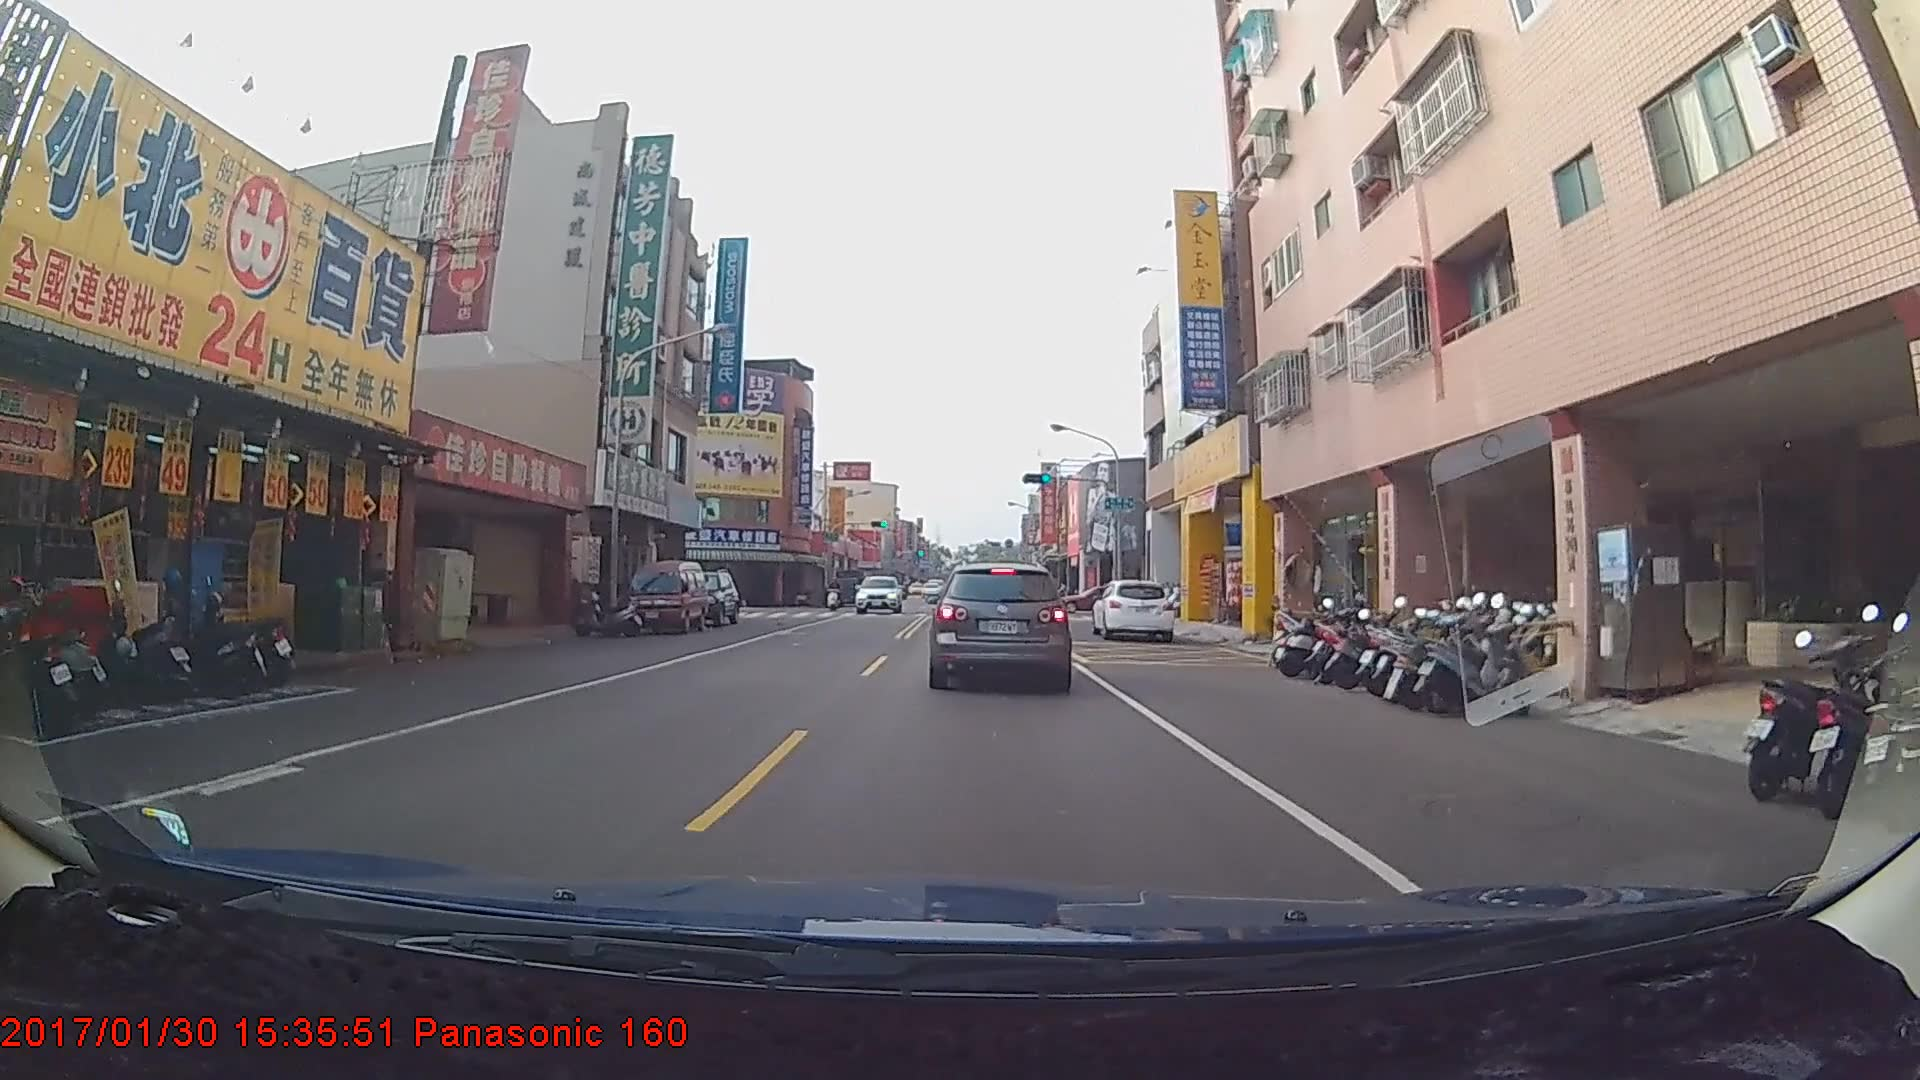vehicle: (931, 558, 1072, 688), (621, 566, 707, 638), (1092, 578, 1174, 644), (673, 567, 741, 626), (853, 576, 891, 609)
